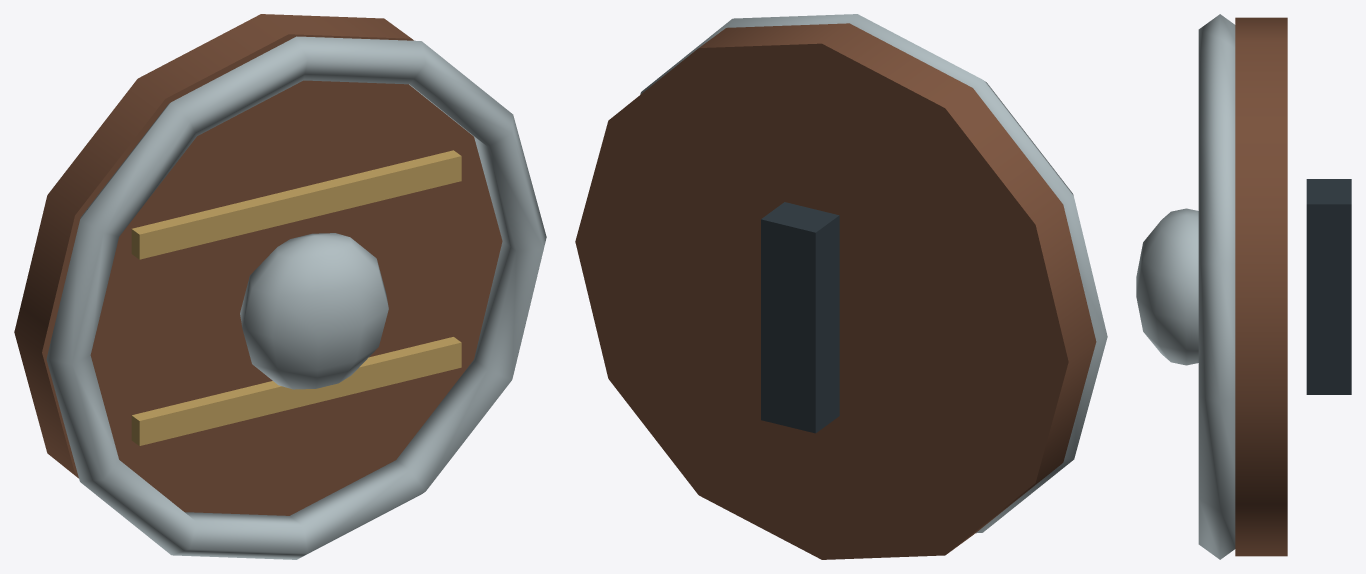
Rendered from fixed-shield.glb.
3 renders of one model, left to right at view 1: azimuth 30°, elevation 25°; view 2: azimuth 150°, elevation 25°; view 3: azimuth 270°, elevation 25°, orthographic. The views are drawn at different scales.
Visible parts, largest first — view 1: piece_whole; view 2: piece_whole; view 3: piece_whole.
Part boxes in pixels (x1,y1,x2,y2): piece_whole: (14,14,546,559); piece_whole: (575,14,1107,559); piece_whole: (1136,14,1351,559).
Bounding box in the file's own units: 0.73 × 0.73 × 0.2866.
